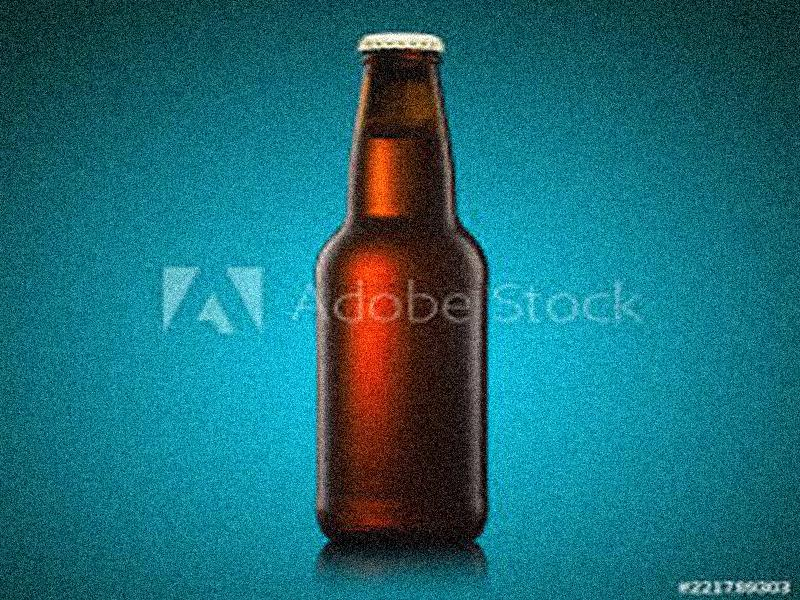Beer: (316, 32, 491, 544)
